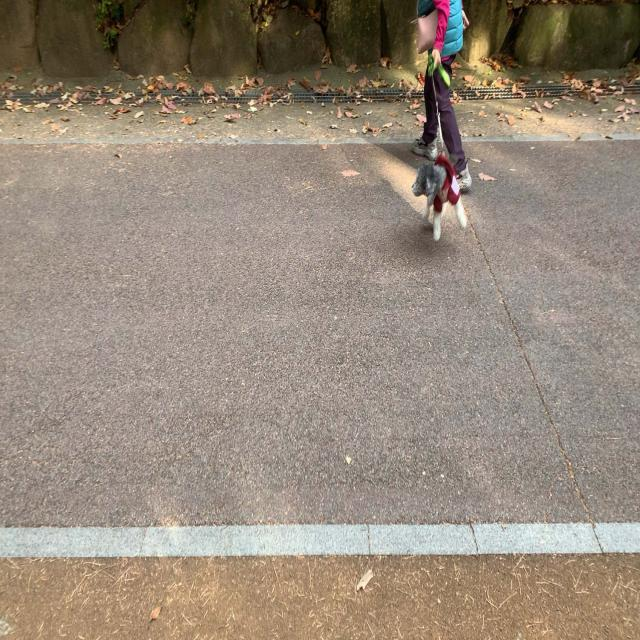Leashed_Dog: (412, 42, 469, 244)
